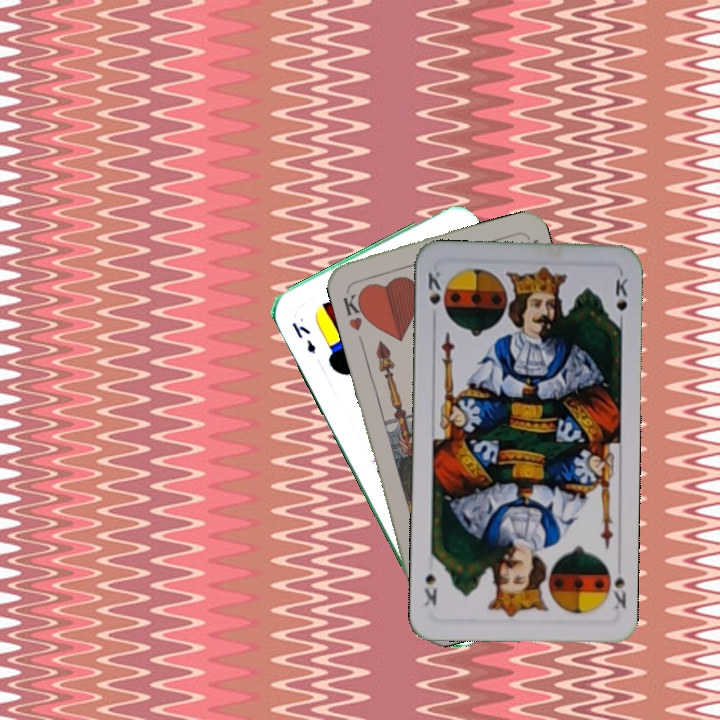EK: (287, 318, 319, 356)
HK: (338, 283, 371, 333)
SK: (424, 267, 444, 324), (608, 572, 629, 612)
